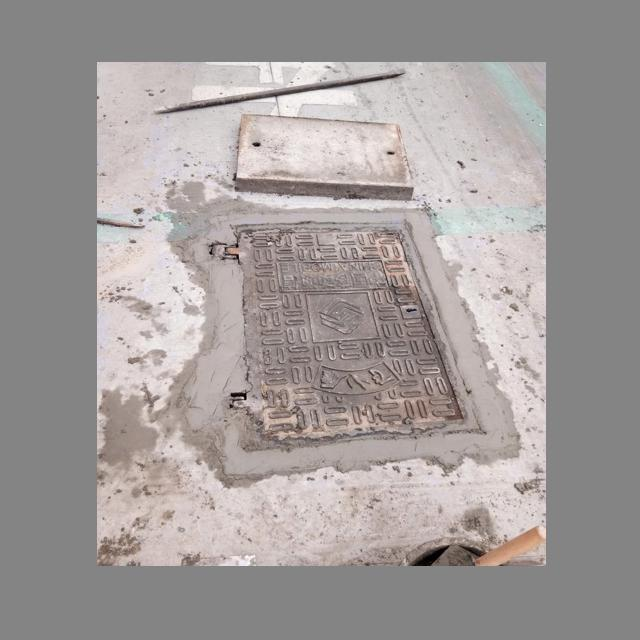good: (212, 221, 487, 445)
